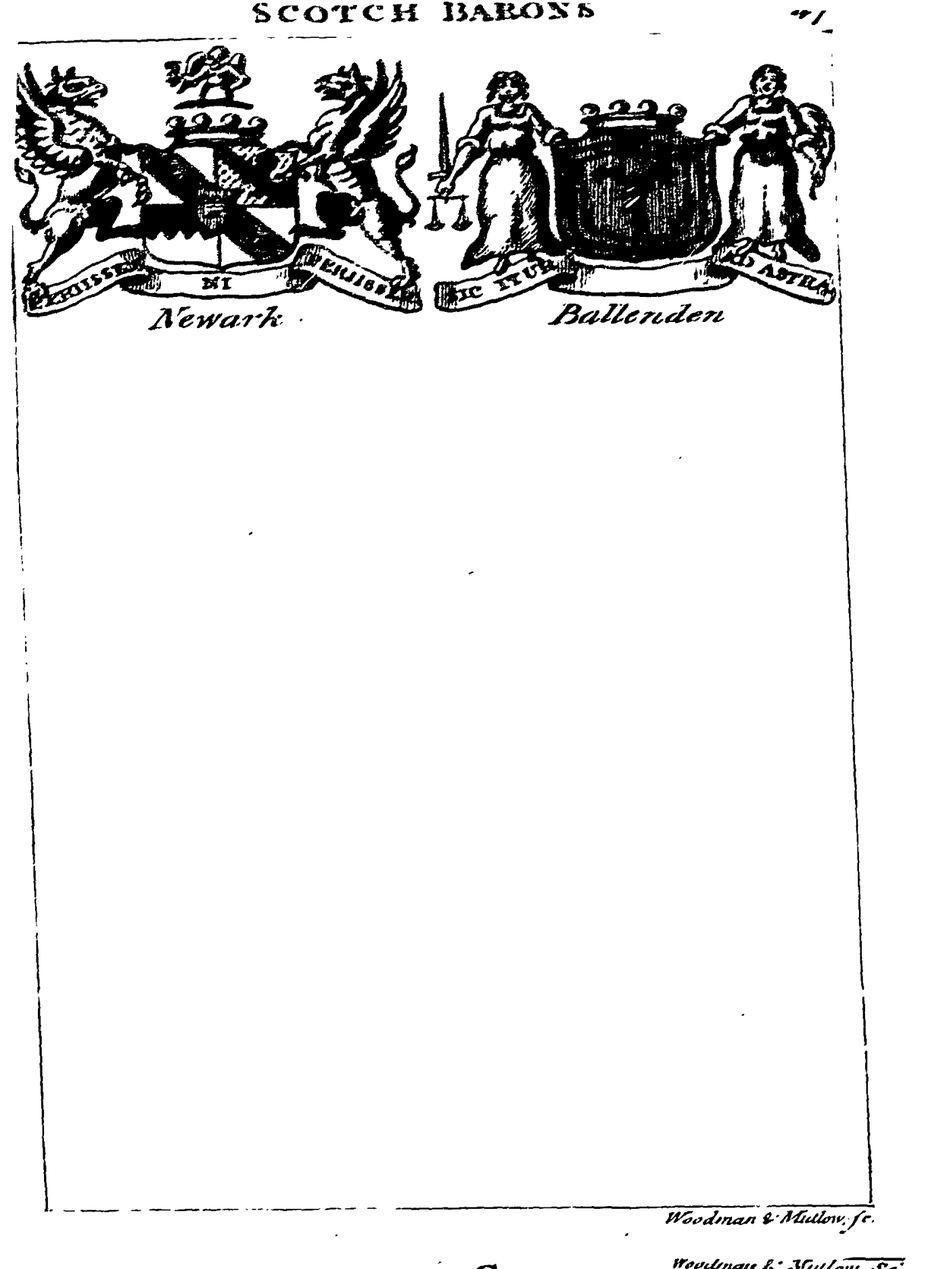coat_of_arms: (18, 53, 433, 335), (437, 53, 835, 345)
